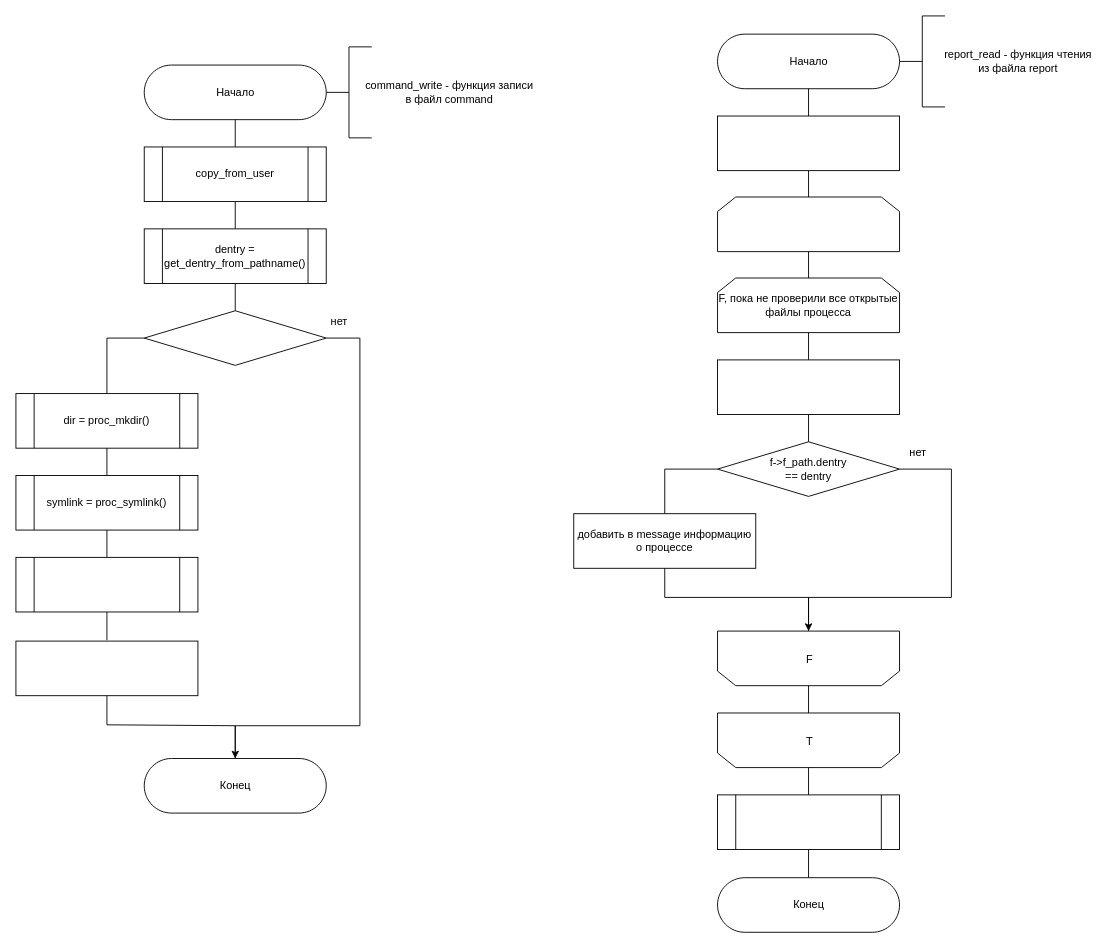
This 1112x948 diagram has some shape labels left out. The centre of each missing label's shape, as x and y in pixels:
"copy_to_user" belongs at [808,821].
"dentry != NULL" belongs at [234,337].
"dentry - указатель на структуру файла message - буфер для вывода" belongs at [808,143].
"f - указатель на структуру открытого файла" belongs at [808,387].
"report = proc_create()" belongs at [106,584].
"T, пока не проверили все процессы" belongs at [808,224].
"добавить dir, symlink, report в список используемых файлов" belongs at [106,668].
